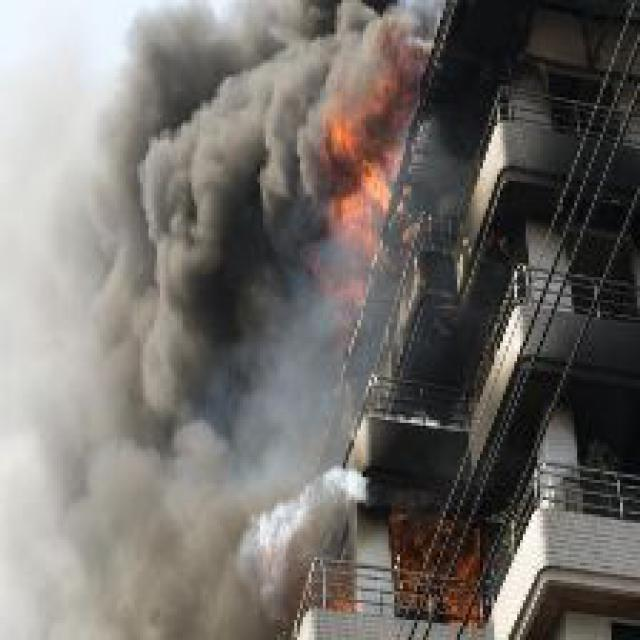fire: (286, 80, 403, 320)
